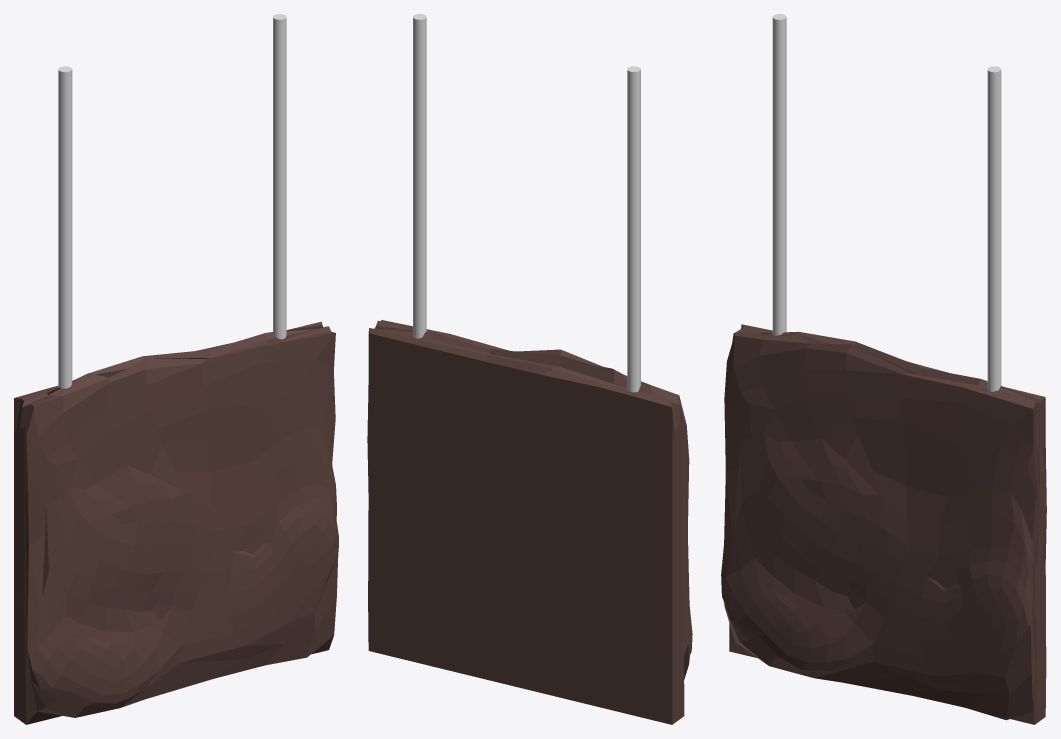
Rendered from Door_01.fbx.
The picture shows the model from 3 angles, left to right: view 1: azimuth 30°, elevation 25°; view 2: azimuth 150°, elevation 25°; view 3: azimuth 330°, elevation 25°; orthographic projection.
Parts seen in each view (by area): view 1: Retopo_Cube; view 2: Retopo_Cube; view 3: Retopo_Cube.
Boxes of the visible parts, bbox=[...] form: Retopo_Cube: bbox=[14, 14, 338, 724]; Retopo_Cube: bbox=[367, 14, 692, 724]; Retopo_Cube: bbox=[721, 14, 1046, 724].
Bounding box in the file's own units: 598 × 1176 × 73.53.
